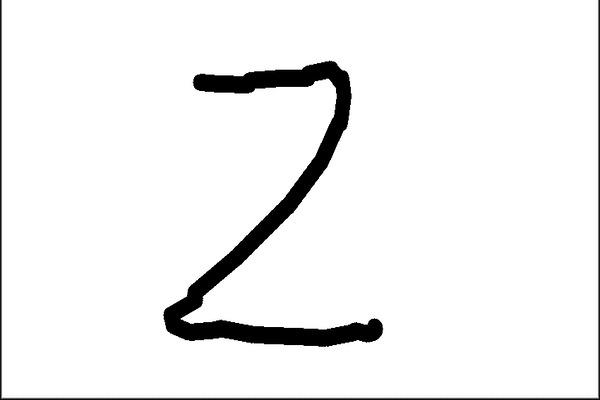Z: (153, 56, 402, 352)
